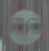No overtake: (5, 5, 42, 50)
